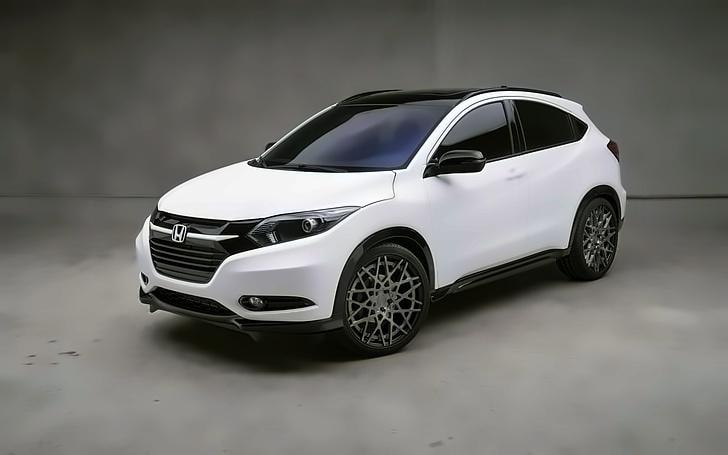Car hood: (153, 154, 397, 222)
Fender - -F-L-: (336, 169, 439, 304)
Fender - -R-L-: (583, 145, 622, 198)
Front bumper: (130, 238, 364, 365)
Headlight - -L-: (245, 202, 362, 250)
Passenger-s door - -F-L-: (439, 90, 528, 290)
Passenger-s door - -R-L-: (528, 94, 599, 261)
Rear bumper: (614, 190, 635, 227)
Rear light - -L-: (602, 138, 626, 166)
Side bumper - -L-: (426, 245, 575, 304)
Side mirror - -L-: (429, 147, 489, 185)
Side mirror - -R-: (261, 126, 287, 159)
